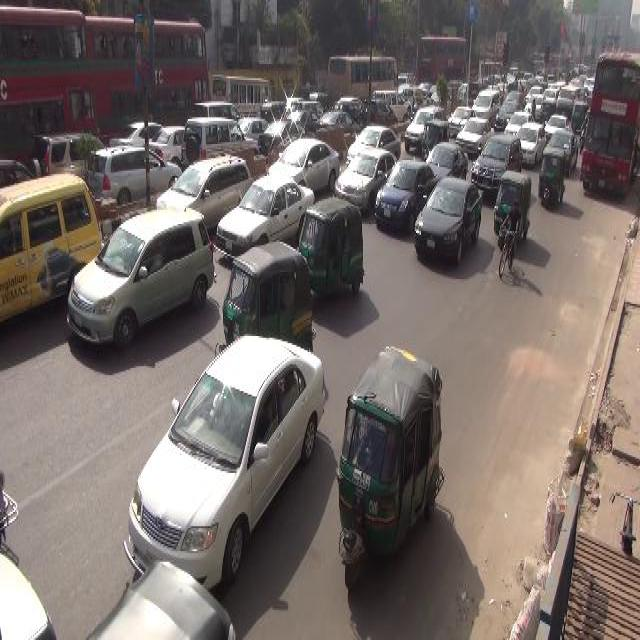Bike: (497, 224, 517, 281)
Bus: (0, 2, 209, 164), (580, 50, 639, 197), (327, 54, 398, 102), (414, 34, 467, 85)
Car: (122, 331, 326, 592)
TokTok: (335, 342, 445, 588)
